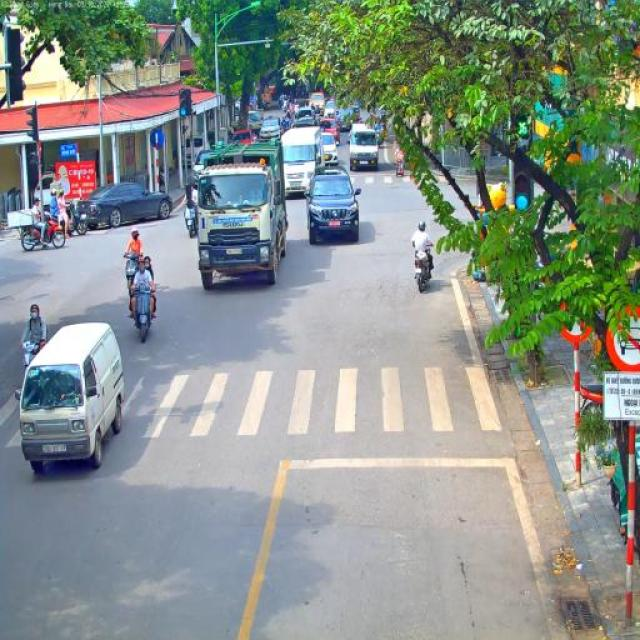bus: (280, 126, 326, 200)
car: (304, 165, 362, 244), (77, 182, 173, 229), (190, 148, 210, 184), (320, 132, 339, 166), (318, 118, 341, 146), (259, 116, 281, 144), (340, 106, 360, 129), (293, 108, 315, 128), (230, 130, 256, 144), (324, 102, 336, 119)
motorcycle: (20, 209, 66, 253), (129, 283, 155, 343), (55, 200, 87, 238), (122, 252, 144, 306), (413, 247, 432, 293), (20, 339, 40, 373), (184, 200, 198, 238), (378, 129, 387, 149), (280, 127, 290, 142), (290, 108, 300, 122), (312, 110, 320, 126), (282, 100, 288, 114)
truck: (15, 321, 126, 475), (194, 142, 288, 290), (349, 128, 379, 172), (247, 110, 263, 142), (310, 89, 325, 110)
